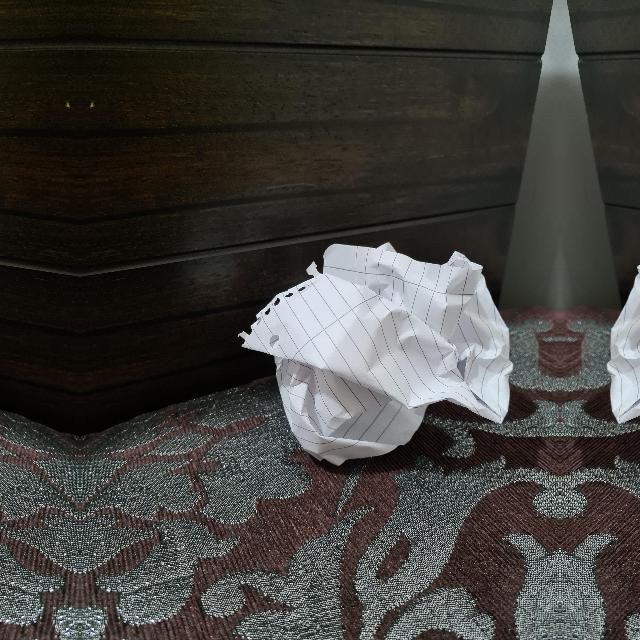paper: (244, 239, 520, 469), (599, 239, 640, 469)
